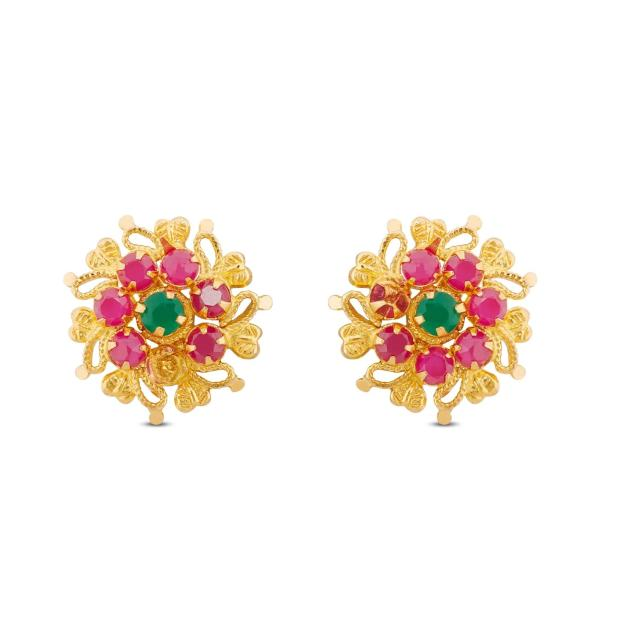missing gem: (371, 276, 408, 316), (148, 347, 185, 383)
